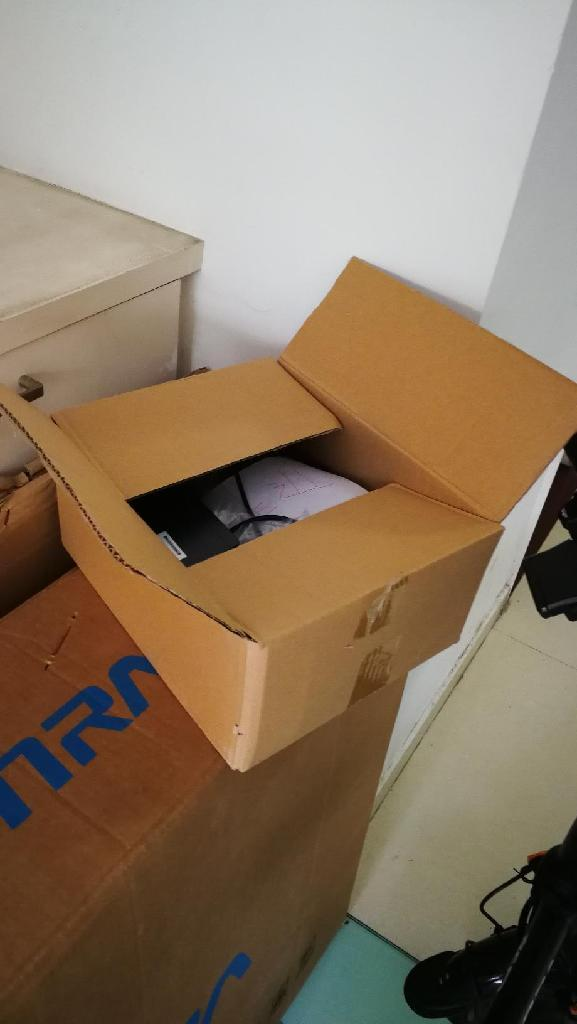cardboard: (0, 259, 576, 769), (280, 258, 576, 520)
